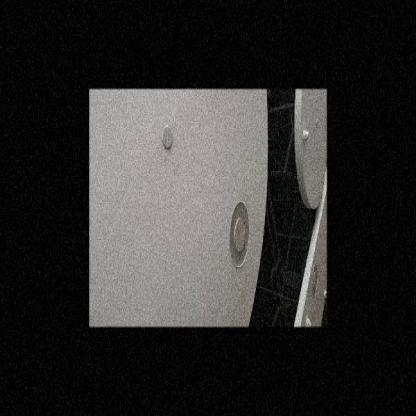light_off: (220, 186, 254, 283), (305, 253, 320, 300)
